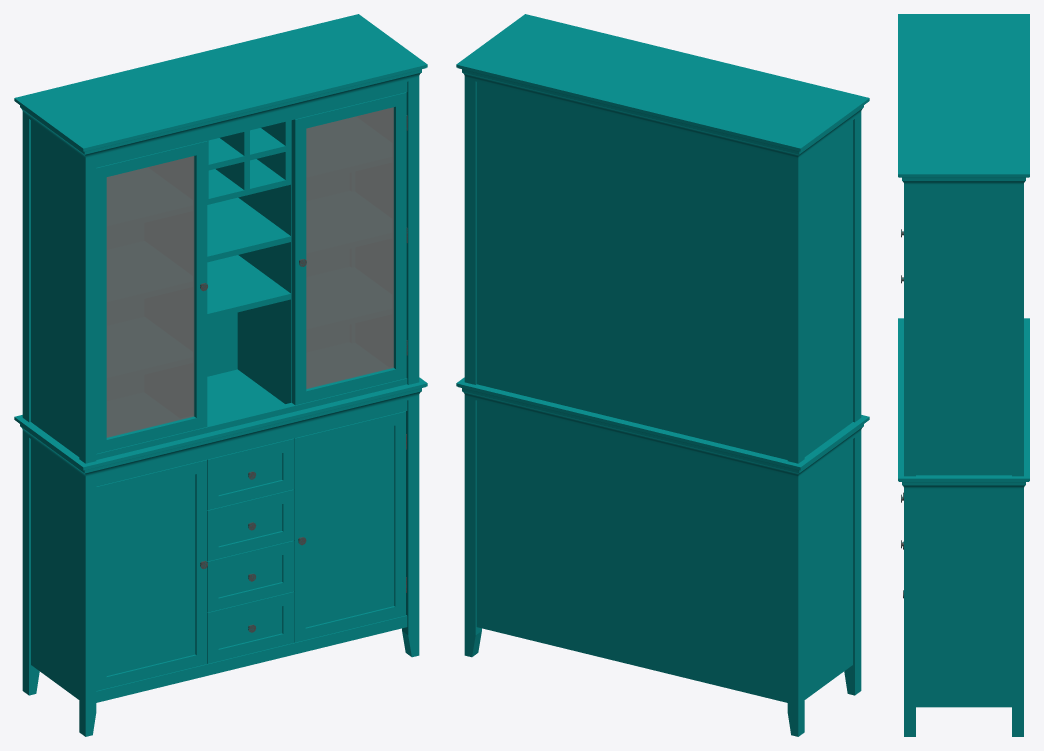
The model's file is Side-Table-Hutch-Textured(1).dae.
3 views of the same model, side by side, from view 1: azimuth 30°, elevation 25°; view 2: azimuth 150°, elevation 25°; view 3: azimuth 270°, elevation 25° (orthographic). The views are drawn at different scales.
Visible parts, largest first — view 1: Door (×4), Lower_Door (×4), Top (×4), Hutch_Top, Door_Frame (×4), Group_1, Drawers (×8), Body (×2), Leg (×3); view 2: Hutch_Top, Body (×2), Top (×4), Leg (×3); view 3: Hutch_Top, Top (×4), Body, Leg (×2).
Boxes of the visible parts, box(x1,y1,x2,y2) form: Door (×4): box(106, 107, 393, 437); Lower_Door (×4): box(96, 411, 405, 690); Top (×4): box(14, 14, 427, 478); Hutch_Top: box(22, 79, 419, 463); Door_Frame (×4): box(96, 92, 406, 453); Group_1: box(207, 120, 291, 403); Drawers (×8): box(207, 438, 294, 663); Body (×2): box(31, 400, 407, 702); Leg (×3): box(22, 397, 419, 736); Hutch_Top: box(464, 79, 861, 463); Body (×2): box(476, 400, 852, 702); Top (×4): box(456, 14, 869, 478); Leg (×3): box(464, 397, 861, 736); Hutch_Top: box(904, 186, 1023, 476); Top (×4): box(898, 14, 1029, 490); Body: box(916, 490, 1011, 707); Leg (×2): box(904, 490, 1023, 736).
Bounding box in the file's own units: 47.5 × 16.5 × 78.
